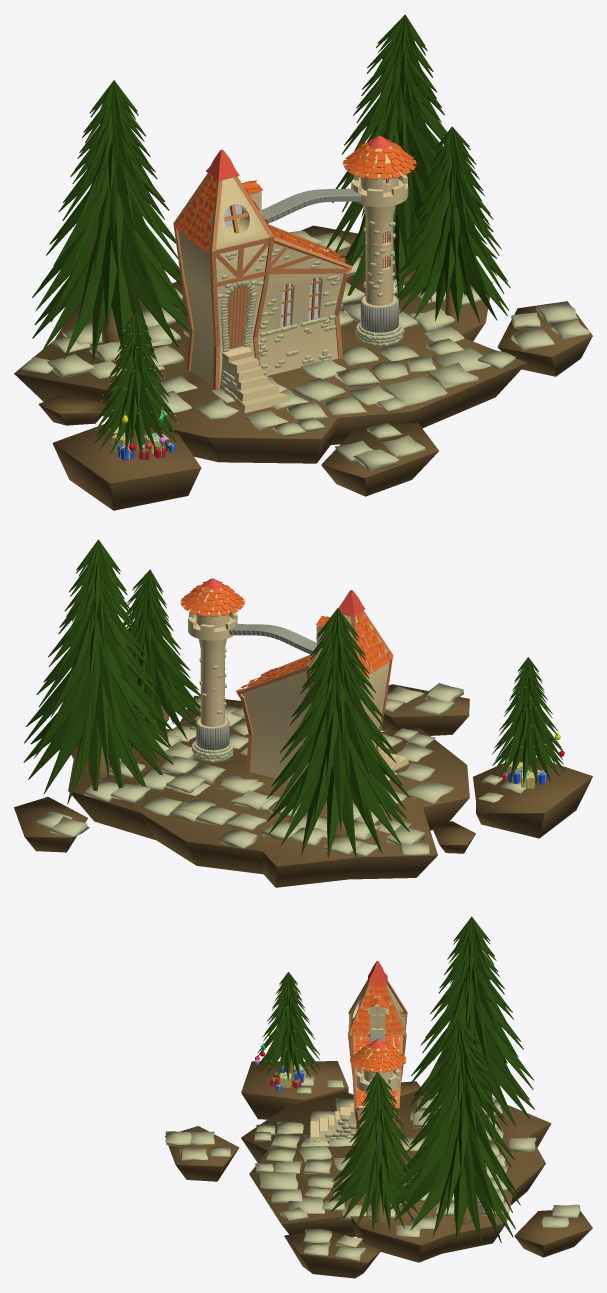
The model's file is tnak35.fbx.
3 renders of one model, top to bottom at view 1: azimuth 30°, elevation 25°; view 2: azimuth 150°, elevation 25°; view 3: azimuth 270°, elevation 25°, orthographic. The views are drawn at different scales.
Parts seen in each view (by area): view 1: tree, ground, tomet, homwall.002, woodhome.002, Cube.786, homwall.001, brick, homwall, kamurj, DOOR, towerstone.001 (+3 smaller); view 2: tree, ground, tomet, homwall.002, homwall.001, Cube.786, woodhome.002, kamurj, towerstone.001, brick, roof, barck; view 3: tree, ground, tomet, Cube.786, woodhome.002, homwall, homwall.002, homwall.001, roof.
Part boxes in pixels (bbox=[...]): tree: bbox=[32, 14, 510, 456]; ground: bbox=[14, 225, 592, 510]; tomet: bbox=[22, 230, 589, 471]; homwall.002: bbox=[178, 175, 345, 388]; woodhome.002: bbox=[173, 173, 391, 390]; Cube.786: bbox=[174, 139, 416, 263]; homwall.001: bbox=[347, 146, 412, 307]; brick: bbox=[217, 221, 404, 401]; homwall: bbox=[220, 346, 289, 413]; kamurj: bbox=[261, 188, 361, 223]; DOOR: bbox=[227, 286, 249, 349]; towerstone.001: bbox=[360, 295, 398, 332]; tree: bbox=[23, 539, 564, 858]; ground: bbox=[14, 684, 592, 887]; tomet: bbox=[36, 683, 525, 856]; homwall.002: bbox=[242, 614, 389, 782]; homwall.001: bbox=[185, 587, 240, 728]; Cube.786: bbox=[180, 581, 393, 691]; woodhome.002: bbox=[237, 610, 392, 800]; kamurj: bbox=[229, 623, 316, 654]; towerstone.001: bbox=[196, 717, 229, 750]; brick: bbox=[192, 648, 393, 775]; roof: bbox=[202, 578, 364, 617]; barck: bbox=[87, 714, 532, 840]; tree: bbox=[257, 916, 534, 1244]; ground: bbox=[165, 1061, 592, 1278]; tomet: bbox=[165, 1075, 580, 1262]; Cube.786: bbox=[350, 984, 406, 1110]; woodhome.002: bbox=[348, 979, 407, 1142]; homwall: bbox=[310, 1103, 356, 1141]; homwall.002: bbox=[349, 983, 405, 1139]; homwall.001: bbox=[353, 1047, 402, 1102]; roof: bbox=[368, 961, 387, 1048].
Bounding box in the file's own units: 25.93 × 14.01 × 31.82.
